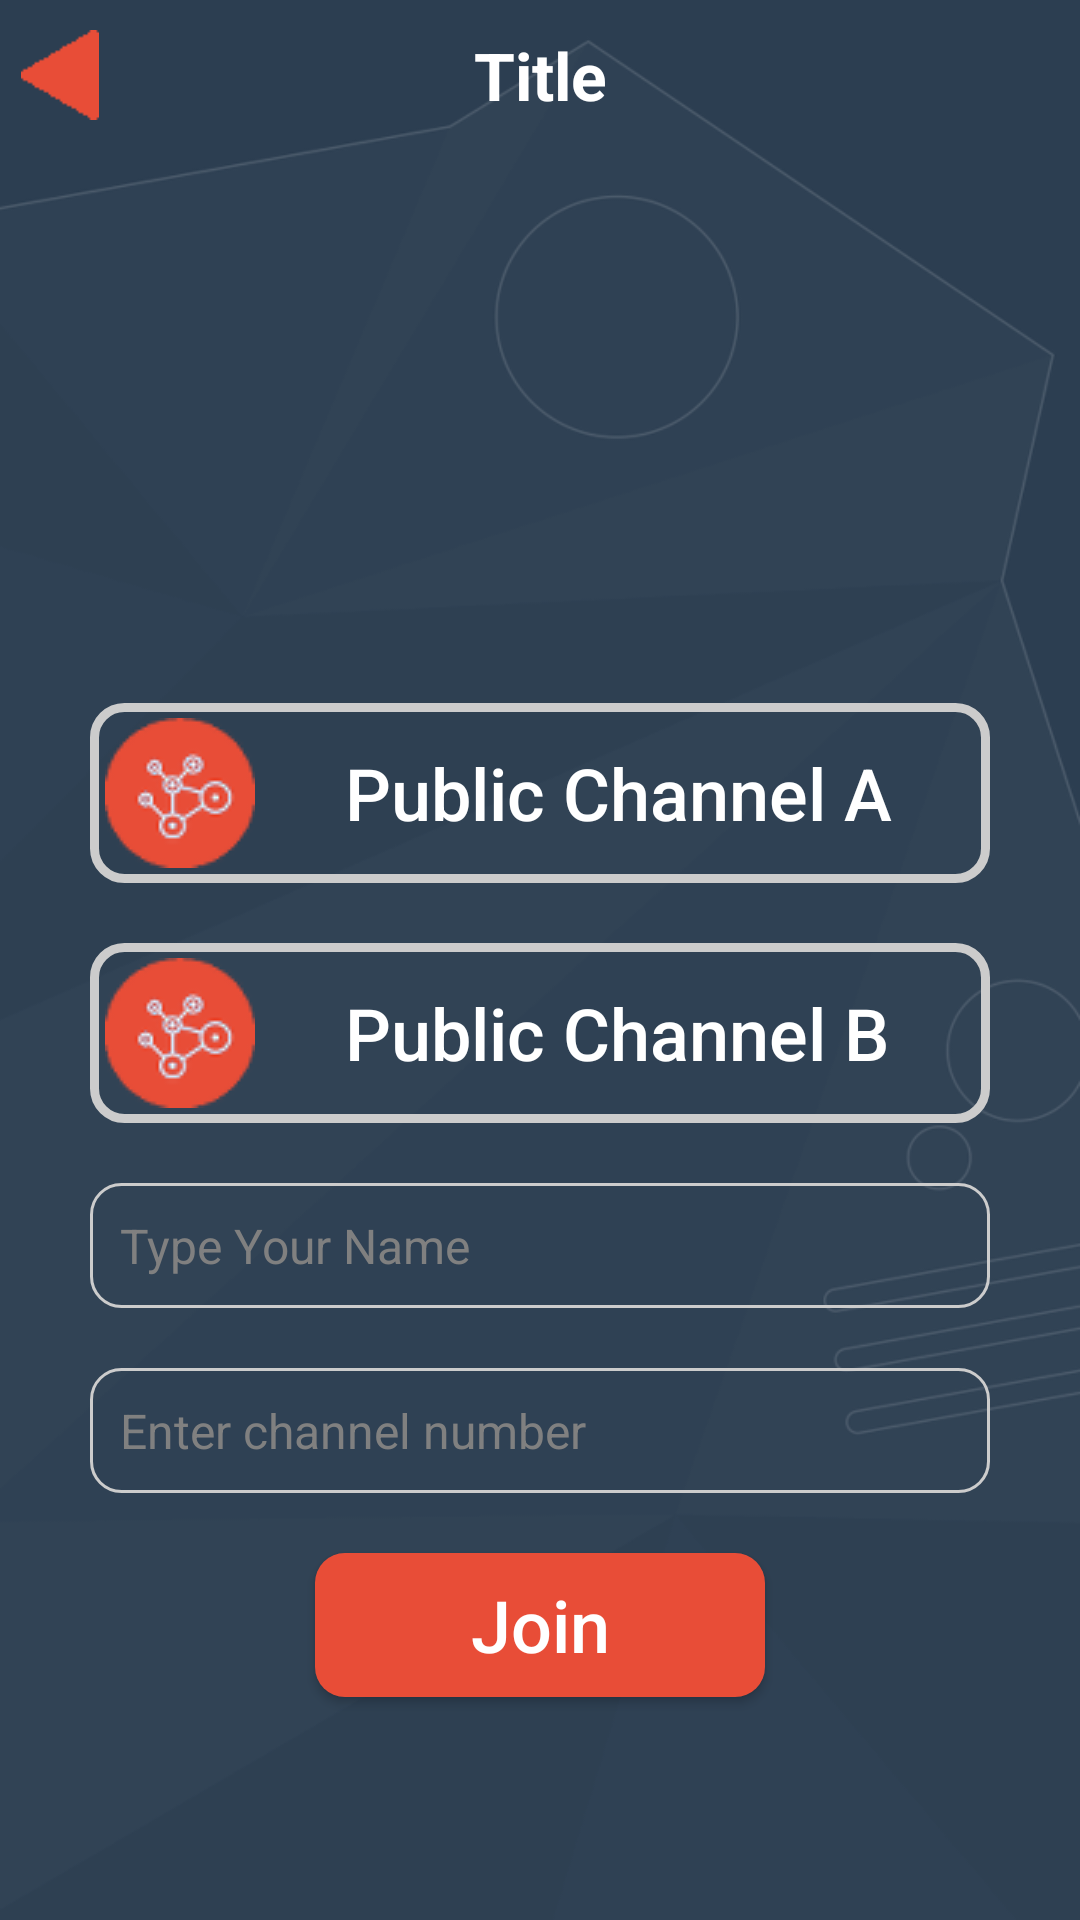

Icons on this 1080x1920 Android screen, each with the point to tap as [x,y]:
back: [60,75]
